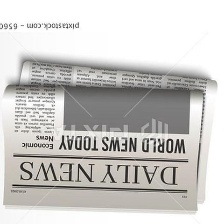news_paper: (15, 57, 219, 205), (0, 83, 204, 211)
